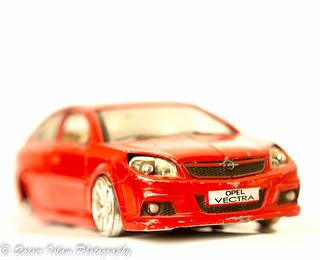front-bumper-dent: (117, 167, 305, 230)
